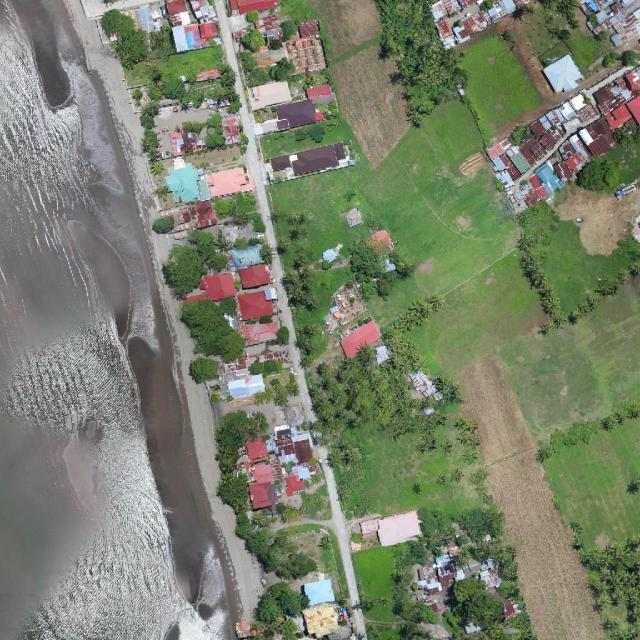building: (90, 0, 352, 223), (139, 158, 319, 447), (351, 506, 538, 640), (228, 418, 330, 534), (257, 579, 342, 640), (158, 275, 185, 321), (121, 350, 124, 362), (224, 364, 230, 369)
